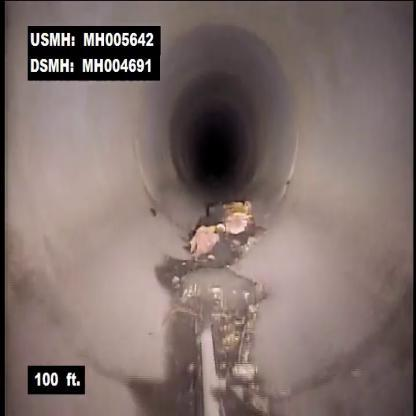Debris: (188, 187, 267, 272)
